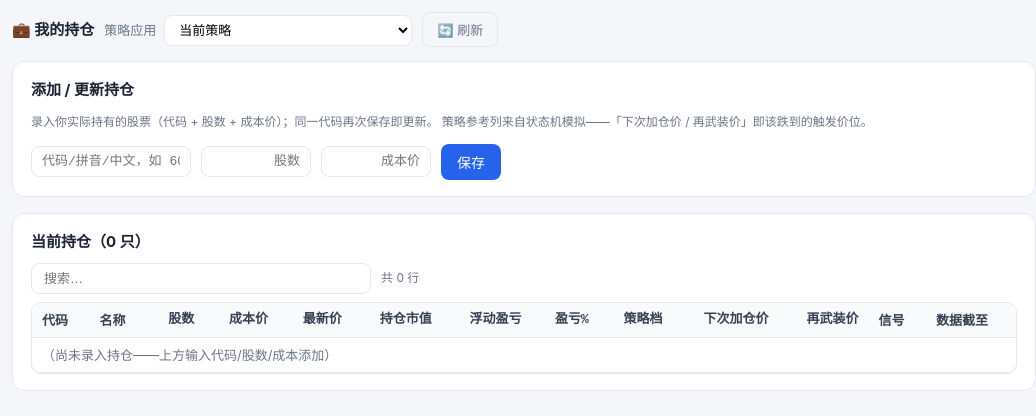
it: MyPositionsTab · 录入条 › 非法代码不发 PUT；合法代码 PUT 正确 body（大写小写化）
The width and height of the screenshot is (1036, 416).
In the field with placeholder "代码/拼音/中文，如 600036、zgsh、长江电力": [111, 162] box [31, 146, 191, 177], type "601088"
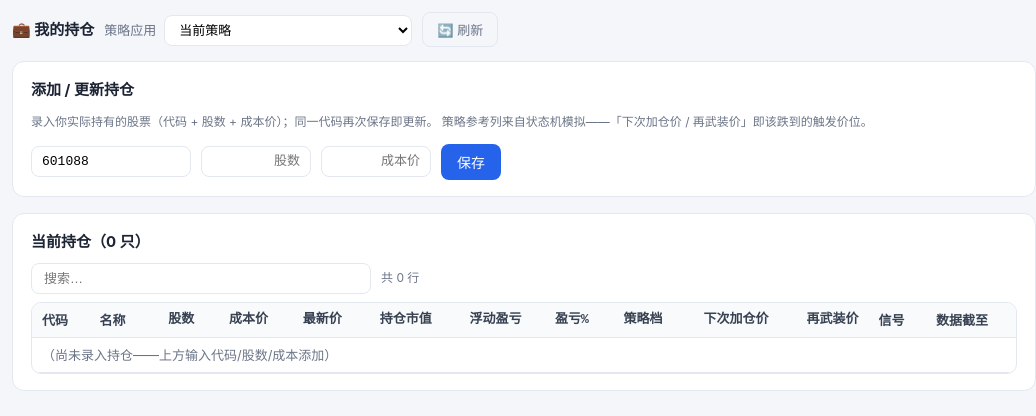
In the field with placeholder "股数": [256, 162] box [201, 146, 311, 177], type "100"
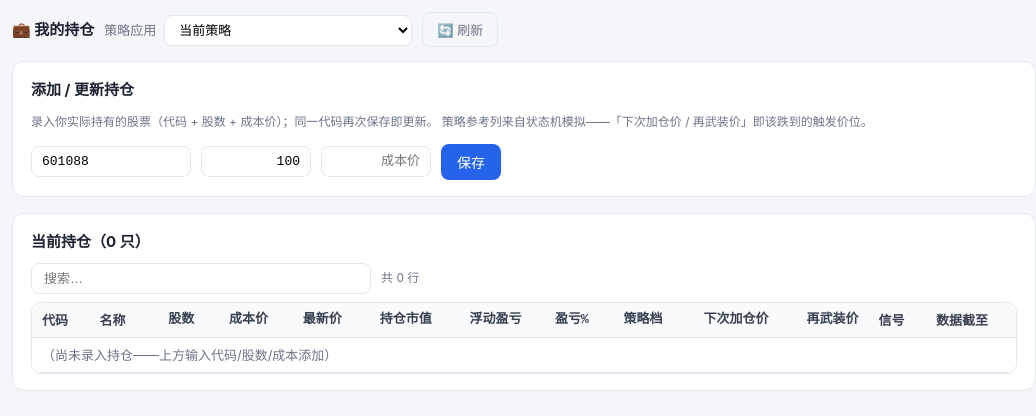
In the field with placeholder "成本价": [376, 162] box [321, 146, 431, 177], type "30"
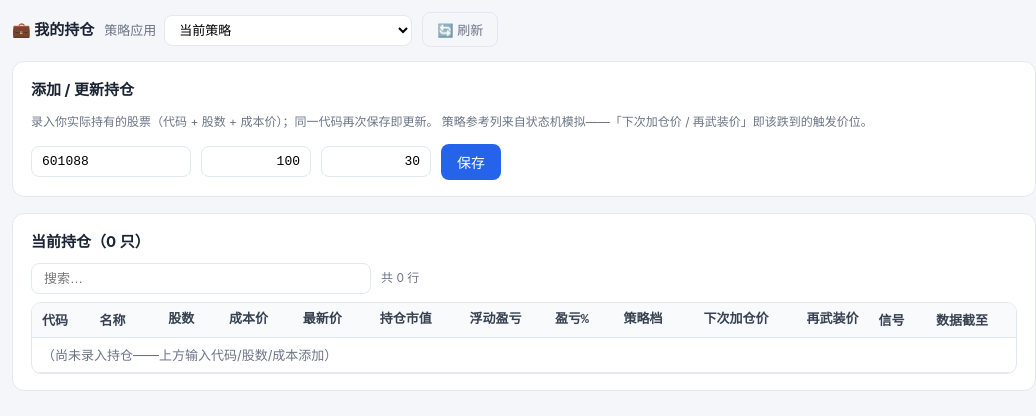
Click the button "保存": [471, 162] box [441, 144, 501, 180]
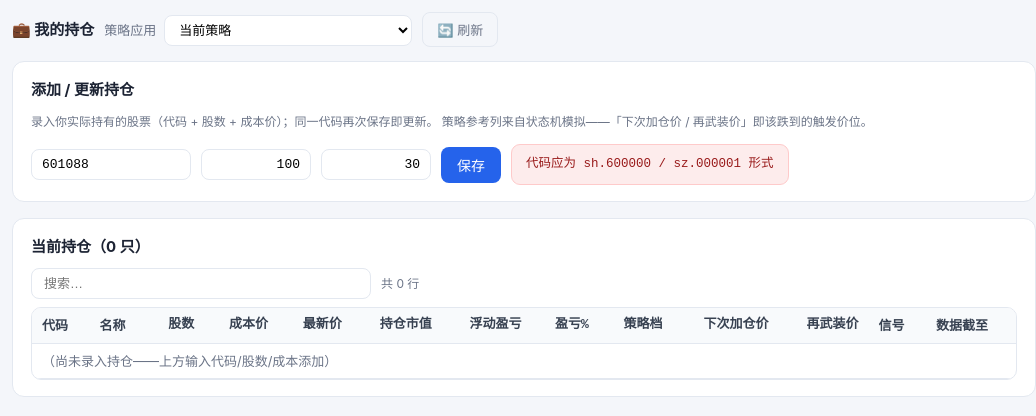
Now the text "代码应为" is shown, box [526, 157, 774, 171]
Replace the text in the 1st field with "SH.601088": [111, 164] box [31, 149, 191, 180]
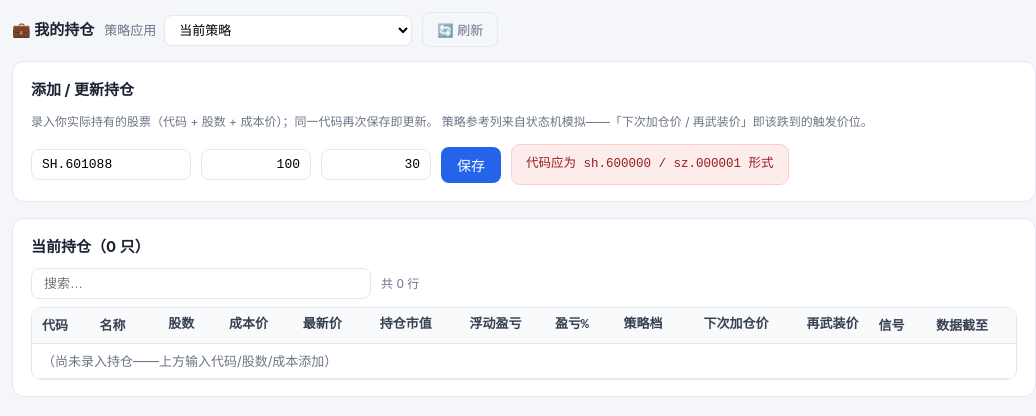
Click the button "保存": [471, 164] box [441, 146, 501, 182]
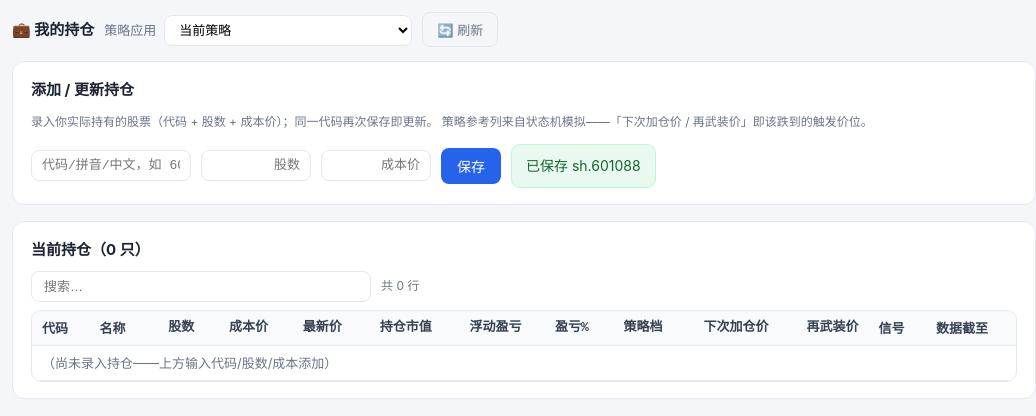
Now the text "已保存 sh.601088" is shown, box [511, 144, 656, 188]
